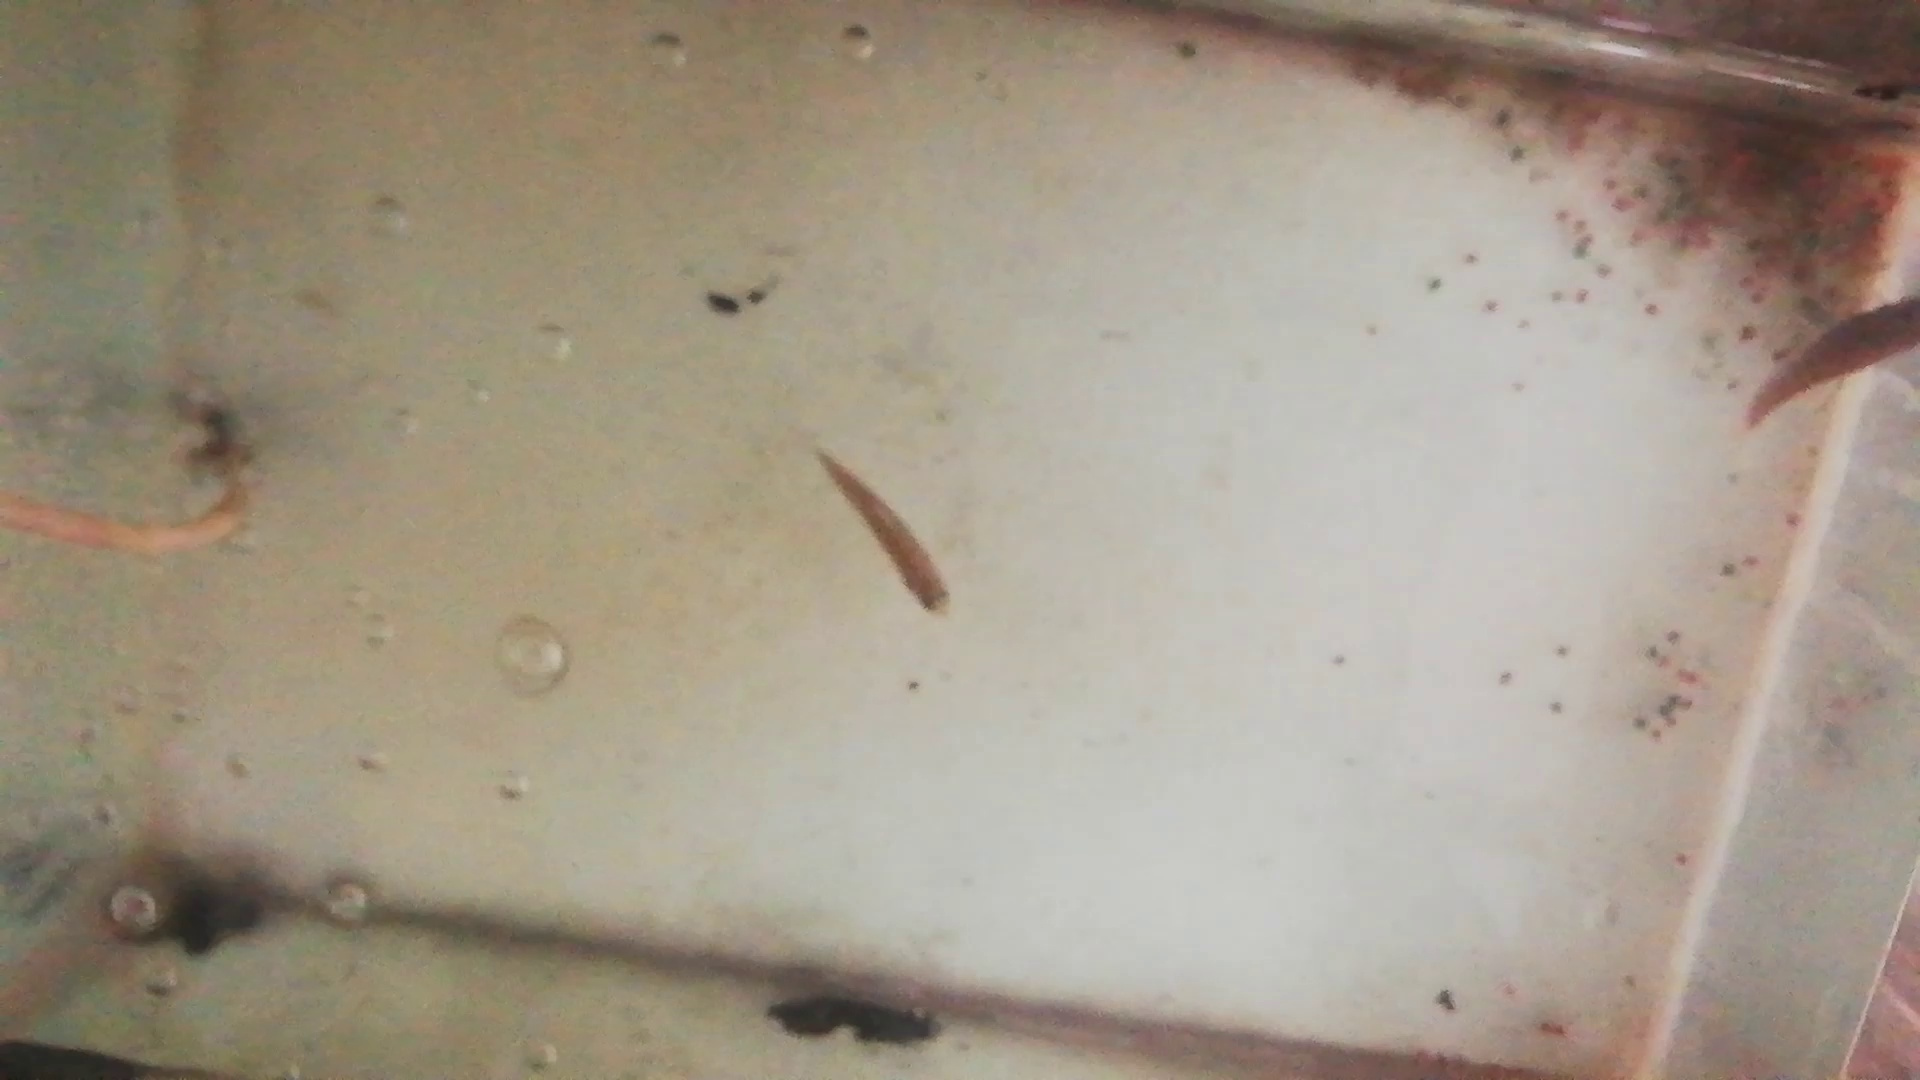fish: (1745, 287, 1920, 430), (815, 454, 955, 618)
